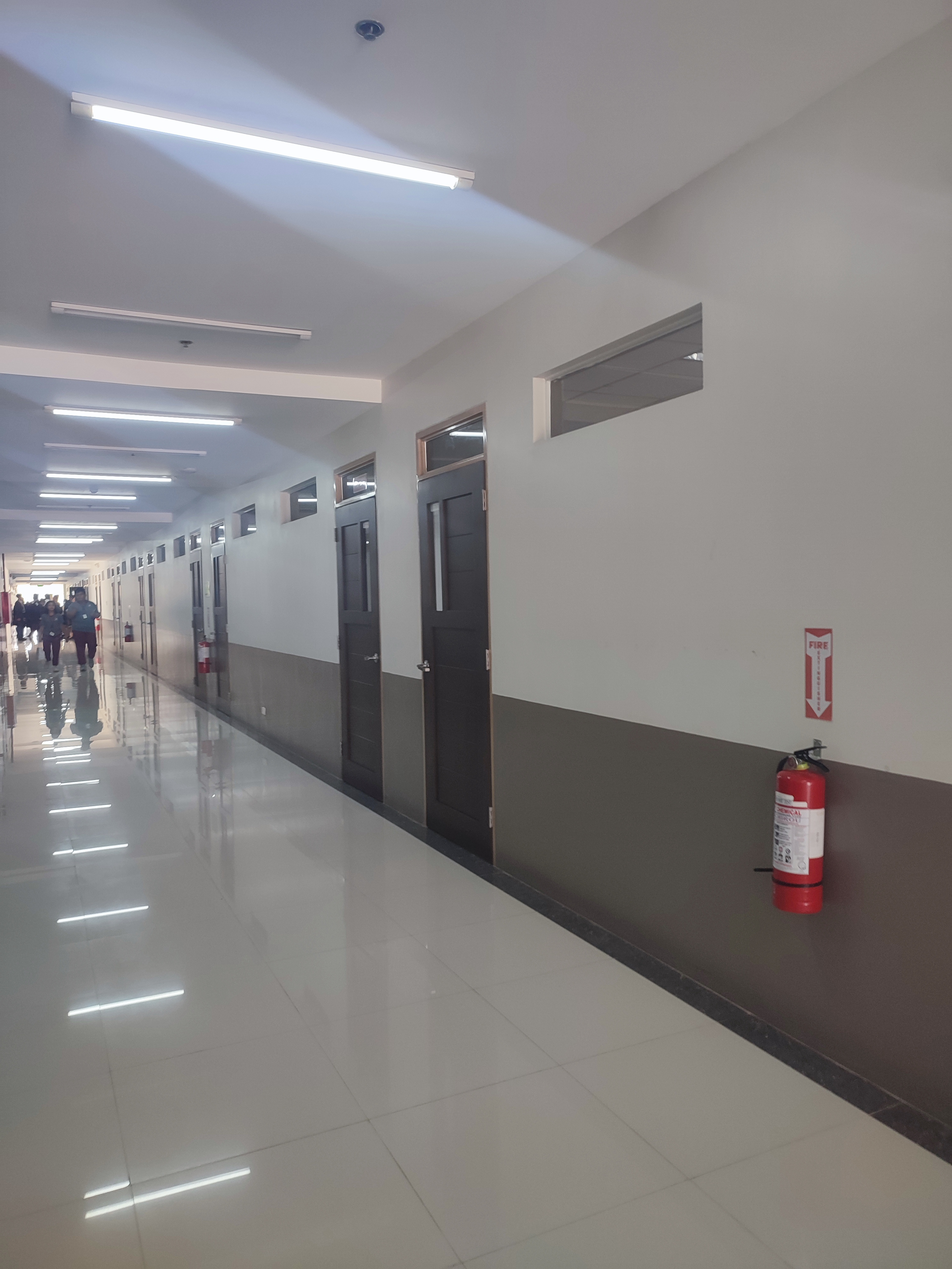door: (413, 403, 493, 865), (344, 453, 382, 805)
